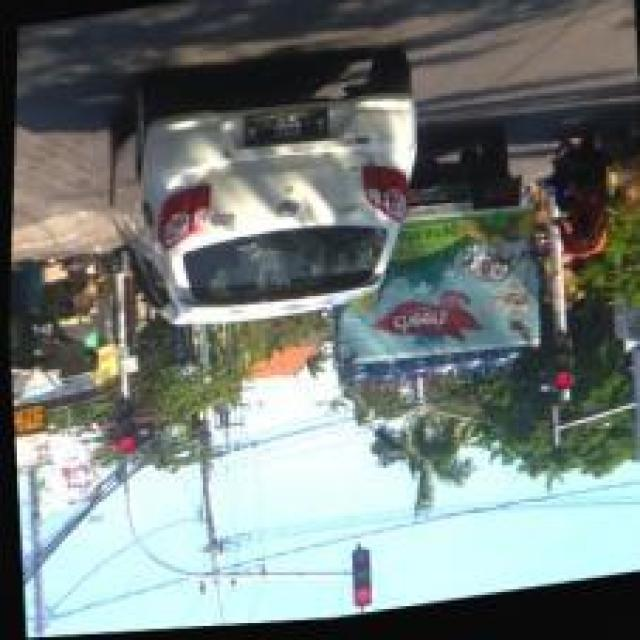red_light: (112, 398, 142, 462), (553, 326, 579, 398), (348, 542, 376, 608)
